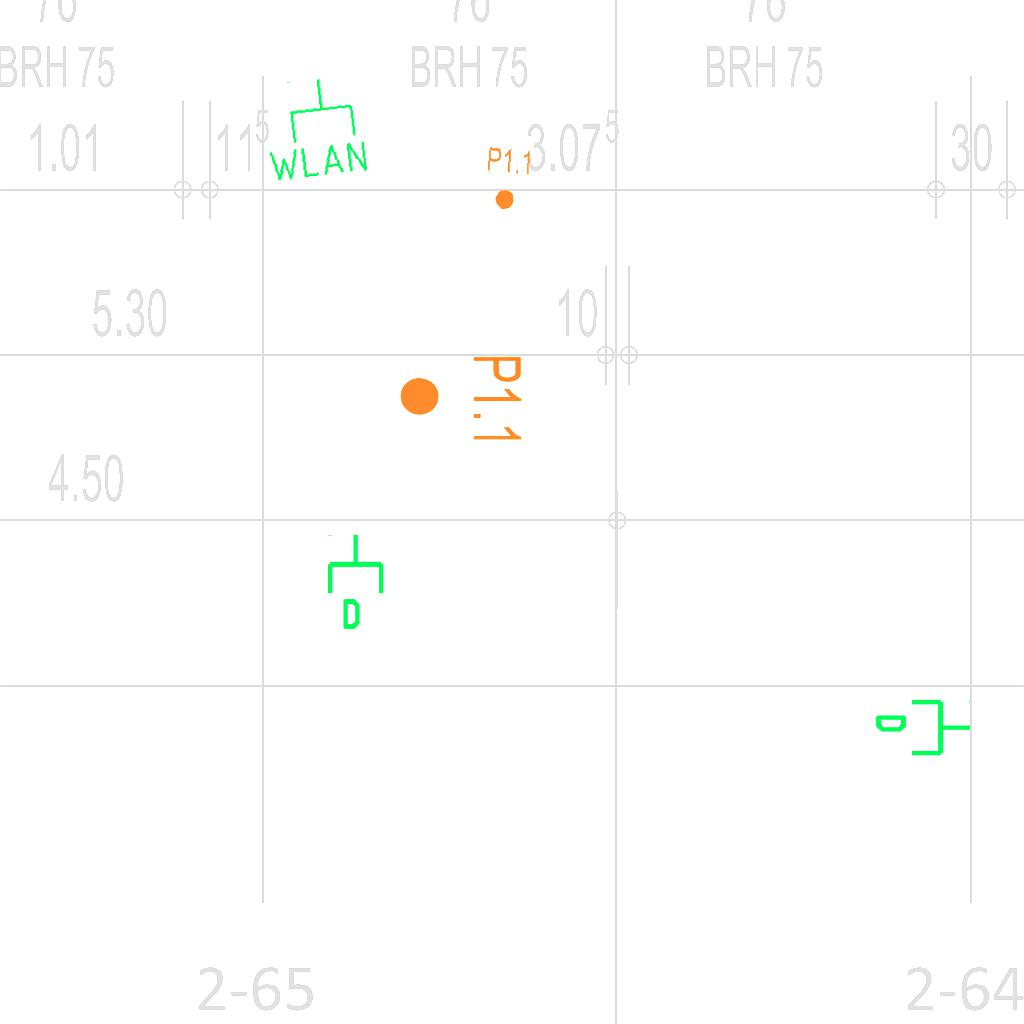Datenanschluss_einfach: (323, 532, 392, 632), (873, 695, 973, 764)
Downlight_LED_Einbauleuchten_Flur: (397, 353, 525, 446), (482, 145, 534, 213)
WLAN: (255, 70, 373, 187)
